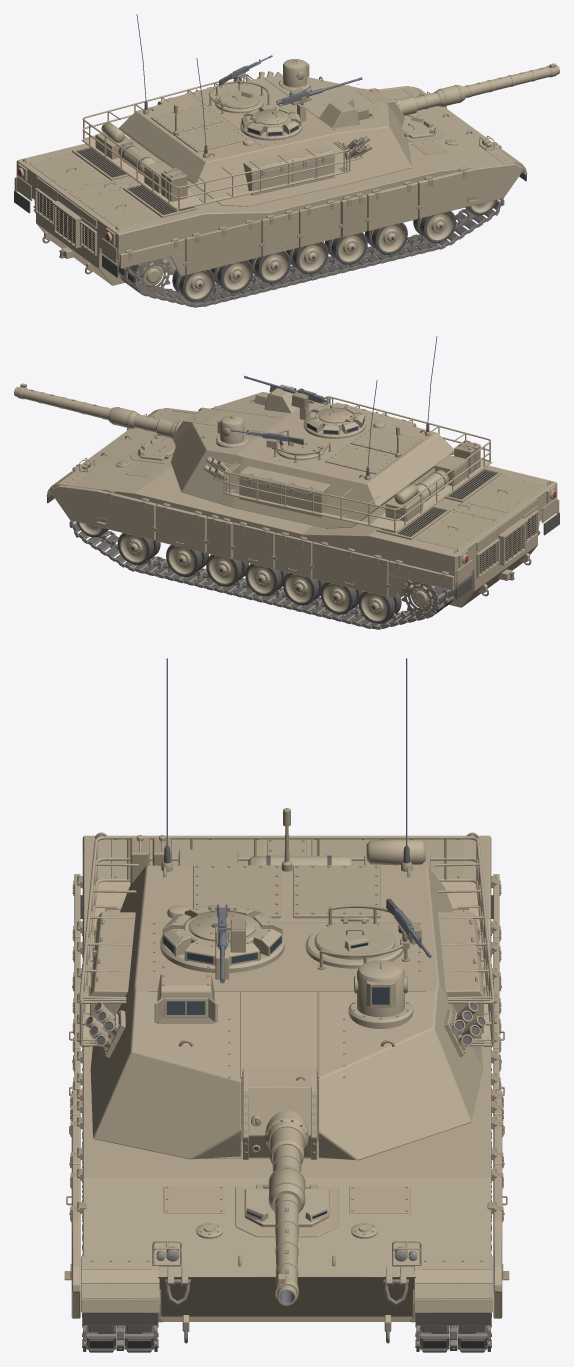
File: abrams-user.glb
The picture shows the model from 3 angles, top to bottom: view 1: azimuth 30°, elevation 25°; view 2: azimuth 150°, elevation 25°; view 3: azimuth 270°, elevation 25°; orthographic projection. The views are drawn at different scales.
Visible parts, largest first — view 1: Hull, Turret, Gun, RoadWheel_R_7, RoadWheel_R_1, RoadWheel_R_2, RoadWheel_R_3, RoadWheel_R_6, RoadWheel_R_5, RoadWheel_R_4, Sprocket_R; view 2: Hull, Turret, Gun, RoadWheel_L_7, RoadWheel_L_1, RoadWheel_L_2, RoadWheel_L_3, RoadWheel_L_6, RoadWheel_L_5, RoadWheel_L_4, Sprocket_L; view 3: Turret, Hull, Gun, TrackLink_R_47, TrackLink_L_47.
Part boxes in pixels (x1,y1,x2,y2): Hull: (14, 86, 527, 285); Turret: (81, 14, 411, 210); Gun: (356, 63, 559, 127); RoadWheel_R_7: (172, 269, 215, 301); RoadWheel_R_1: (413, 211, 455, 243); RoadWheel_R_2: (365, 223, 407, 254); RoadWheel_R_3: (325, 232, 367, 264); RoadWheel_R_6: (210, 260, 253, 292); RoadWheel_R_5: (248, 251, 290, 283); RoadWheel_R_4: (286, 242, 328, 274); Sprocket_R: (117, 258, 172, 294); Hull: (46, 408, 559, 607); Turret: (171, 336, 492, 532); Gun: (14, 383, 220, 446); RoadWheel_L_7: (358, 591, 401, 623); RoadWheel_L_1: (118, 533, 160, 565); RoadWheel_L_2: (166, 545, 208, 576); RoadWheel_L_3: (206, 554, 248, 586); RoadWheel_L_6: (320, 582, 363, 614); RoadWheel_L_5: (283, 573, 325, 605); RoadWheel_L_4: (245, 564, 287, 596); Sprocket_L: (401, 580, 455, 618); Turret: (79, 658, 494, 1160); Hull: (64, 832, 509, 1343); Gun: (243, 1066, 316, 1305); TrackLink_R_47: (82, 1333, 158, 1351); TrackLink_L_47: (415, 1333, 491, 1351).
Size of the model in its own units: 9.79 by 4.35 by 3.79.
